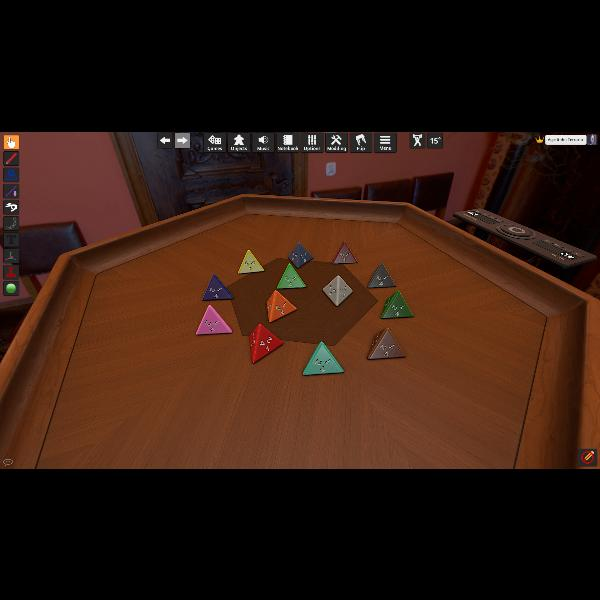d4: (302, 341, 340, 375), (251, 324, 285, 362), (369, 327, 406, 359), (197, 305, 233, 335), (320, 274, 350, 306), (268, 287, 296, 321), (380, 290, 412, 318), (203, 274, 235, 300), (277, 263, 305, 289), (368, 263, 394, 289), (238, 249, 264, 273), (288, 243, 311, 269), (332, 240, 356, 264)
